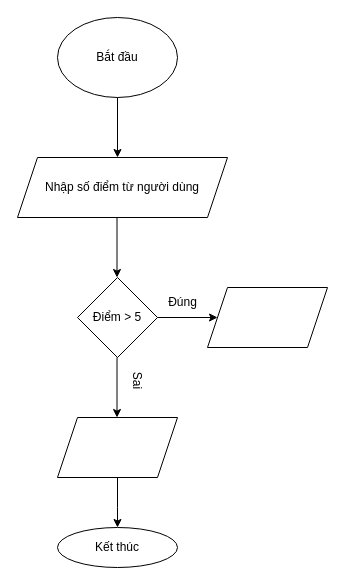
This 345x585 diagram has some shape labels left out. Here are the shapes that lost their labels. From the top down, the centre of each, then its label:
the point at 267,317: Đat
the point at 117,447: Không đạt
